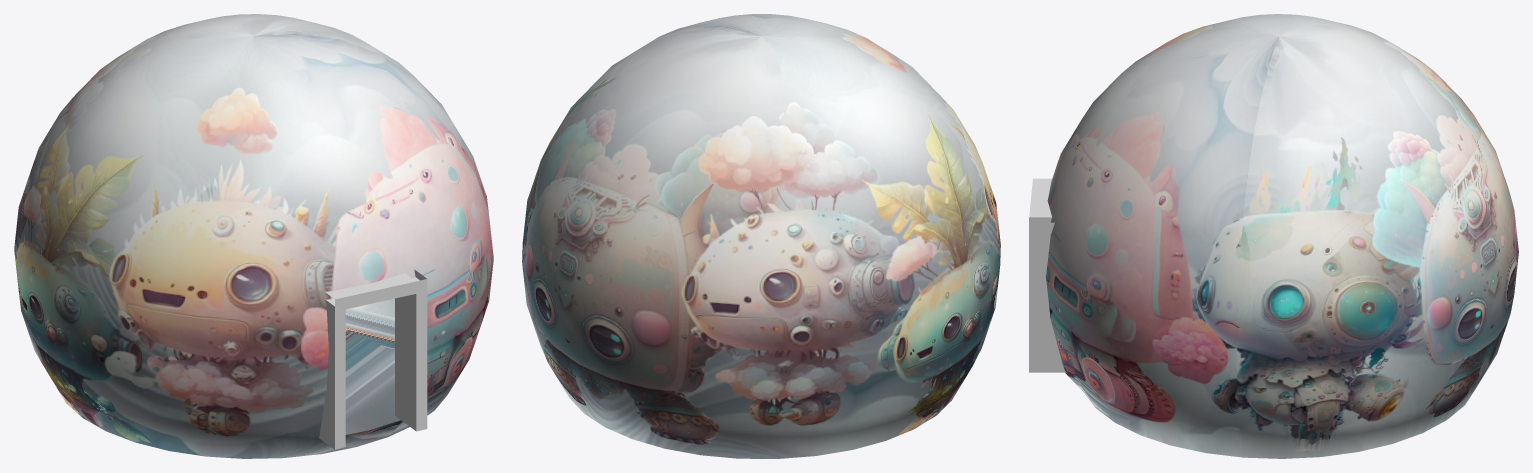
The model's file is Anonymom-dome2.glb.
The picture shows the model from 3 angles, left to right: view 1: azimuth 30°, elevation 25°; view 2: azimuth 150°, elevation 25°; view 3: azimuth 270°, elevation 25°; orthographic projection.
Visible parts, largest first — view 1: Sphere, Cube.650; view 2: Sphere; view 3: Sphere, Cube.650.
Part boxes in pixels (left/top/right/bottom): Sphere: left=14, top=14, right=493, bottom=458; Cube.650: left=319, top=269, right=427, bottom=449; Sphere: left=522, top=14, right=1000, bottom=458; Sphere: left=1046, top=14, right=1518, bottom=458; Cube.650: left=1029, top=178, right=1066, bottom=372.
Bounding box in the file's own units: 13.28 × 10.33 × 13.55.
2 materials, 1 textured.
